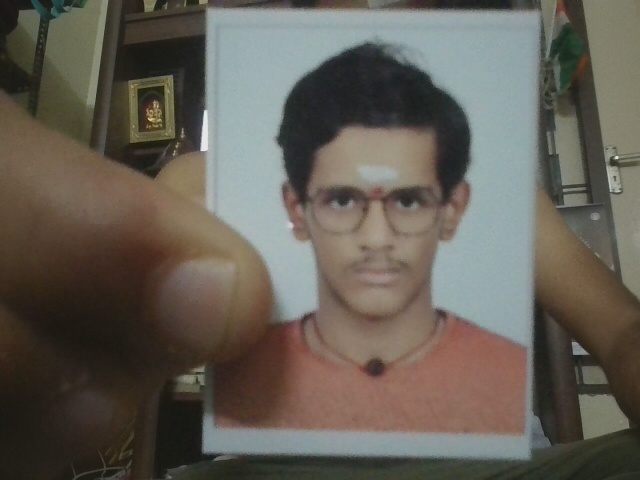fake: (271, 123, 479, 331)
